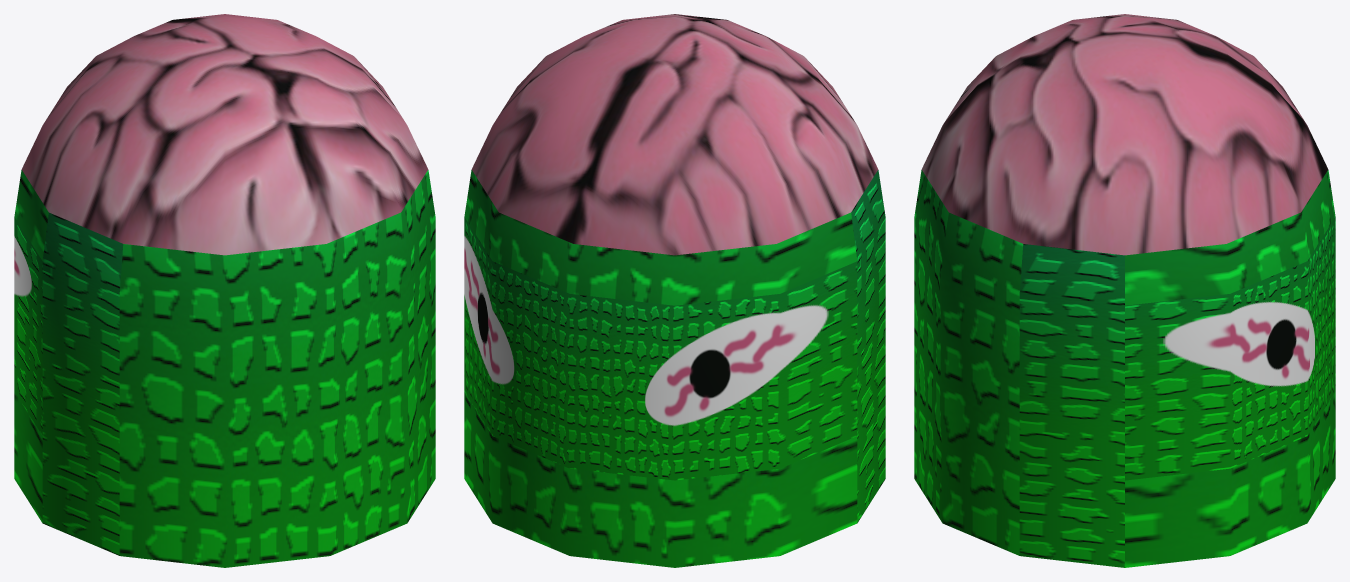
File: AlienHead.FBX
3 renders of one model, left to right at view 1: azimuth 30°, elevation 25°; view 2: azimuth 150°, elevation 25°; view 3: azimuth 270°, elevation 25°, orthographic.
Parts seen in each view (by area): view 1: Capsule003; view 2: Capsule003; view 3: Capsule003.
Part boxes in pixels (x1,y1,x2,y2): Capsule003: (14, 14, 435, 567); Capsule003: (464, 14, 885, 567); Capsule003: (914, 14, 1335, 567).
Size of the model in its own units: 44.84 by 52.27 by 44.84.
Materials: 1 (1 with a texture image).
